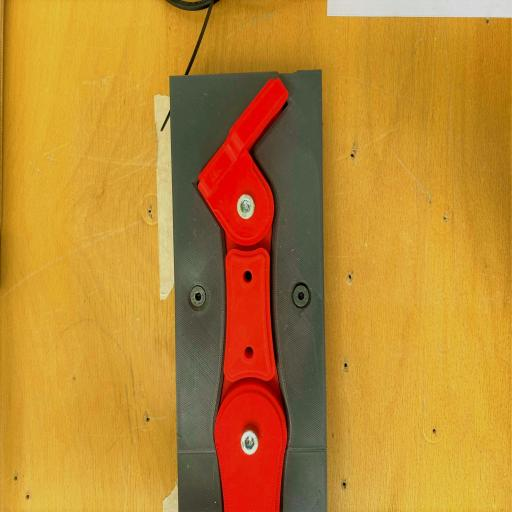Hex-Allen: (236, 188, 256, 228), (185, 280, 207, 314), (288, 279, 310, 312), (239, 427, 258, 461)
